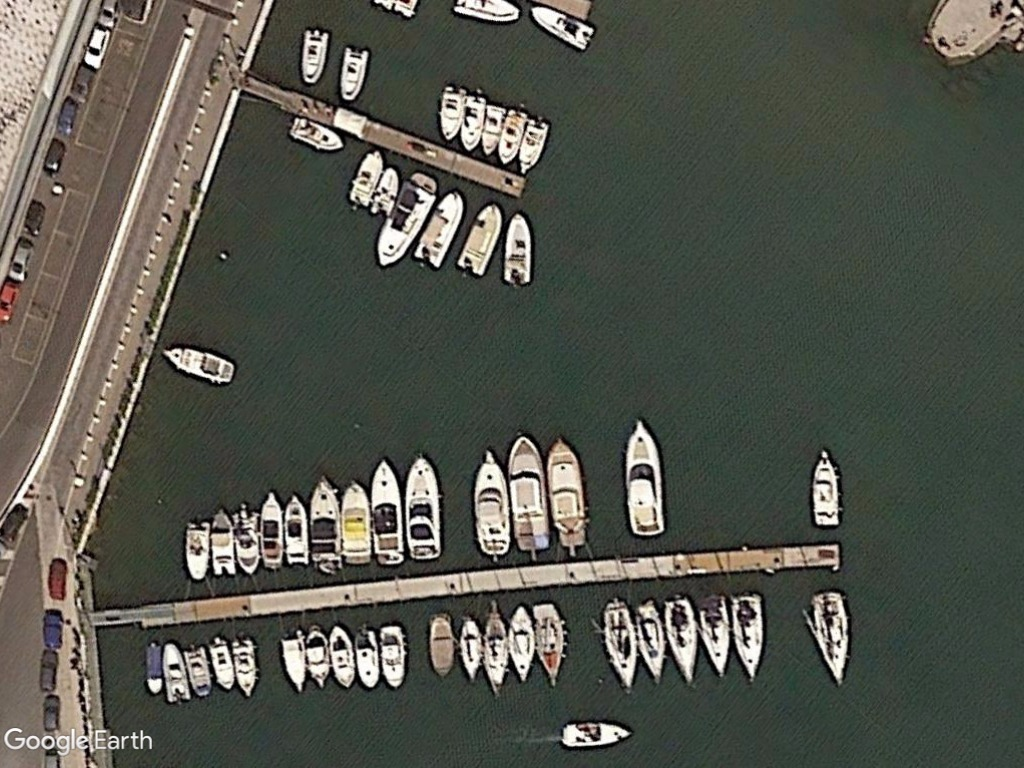boat: (371, 176, 440, 270), (500, 432, 553, 554), (617, 415, 669, 539), (541, 434, 592, 551), (465, 446, 513, 562), (399, 451, 445, 563), (807, 587, 854, 689), (412, 187, 465, 271), (368, 454, 406, 566), (726, 587, 769, 682), (597, 598, 640, 691), (456, 199, 505, 279), (660, 595, 701, 686), (527, 2, 598, 53), (306, 475, 342, 573), (691, 594, 731, 681), (157, 344, 237, 387), (529, 600, 567, 690), (632, 599, 669, 687), (478, 607, 512, 699), (337, 478, 371, 568), (504, 602, 539, 687), (807, 447, 842, 530), (499, 209, 534, 289), (285, 112, 346, 156), (375, 622, 409, 695), (346, 147, 386, 209), (228, 509, 263, 577), (558, 717, 634, 748), (425, 612, 459, 681), (283, 491, 312, 569), (326, 622, 358, 692), (514, 118, 552, 176), (205, 509, 236, 579), (351, 625, 383, 692), (159, 641, 192, 705), (336, 44, 371, 104), (258, 491, 284, 571), (297, 24, 330, 87), (277, 630, 309, 694), (456, 92, 488, 155), (302, 624, 333, 689), (228, 634, 259, 699), (181, 515, 211, 582), (496, 107, 529, 167), (475, 101, 508, 160), (205, 637, 236, 696), (436, 85, 468, 142), (368, 164, 401, 219), (456, 614, 482, 682), (180, 645, 212, 698)
car: (79, 25, 114, 72), (7, 236, 35, 286)
